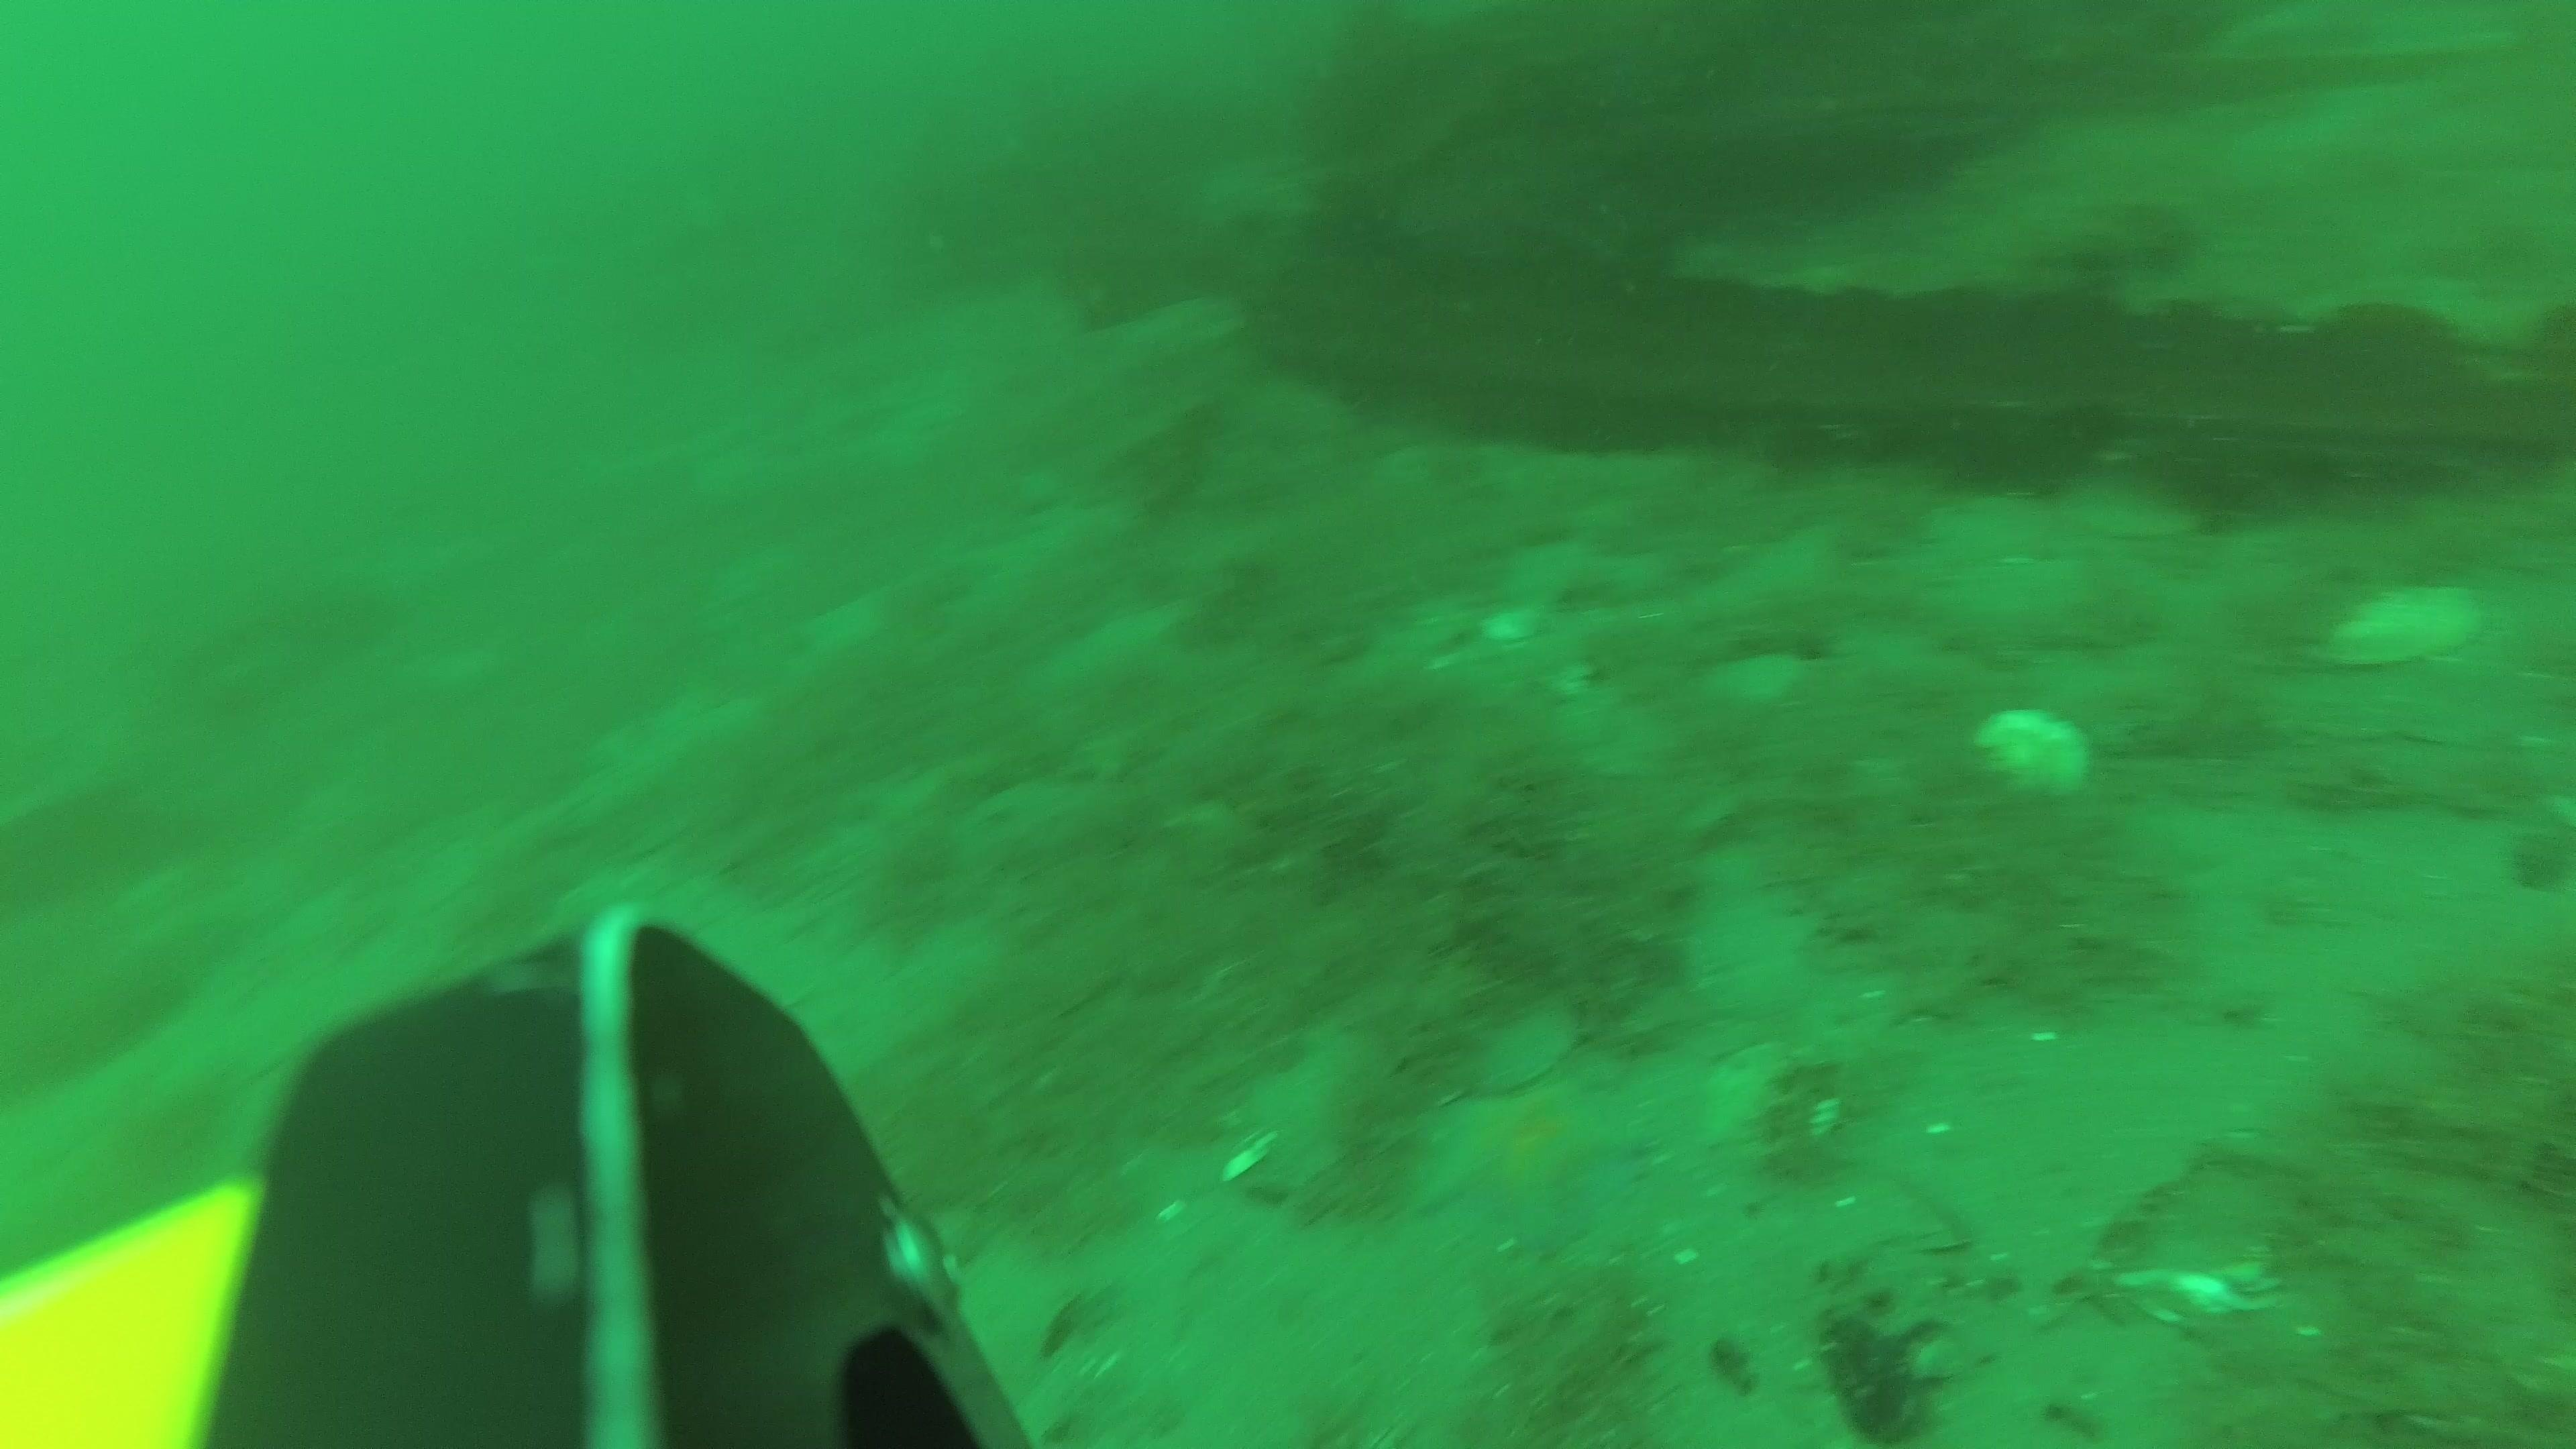scallop: (2323, 579, 2484, 672), (1445, 994, 1576, 1102), (2061, 467, 2201, 550)
starfish: (1415, 1070, 1637, 1247)
